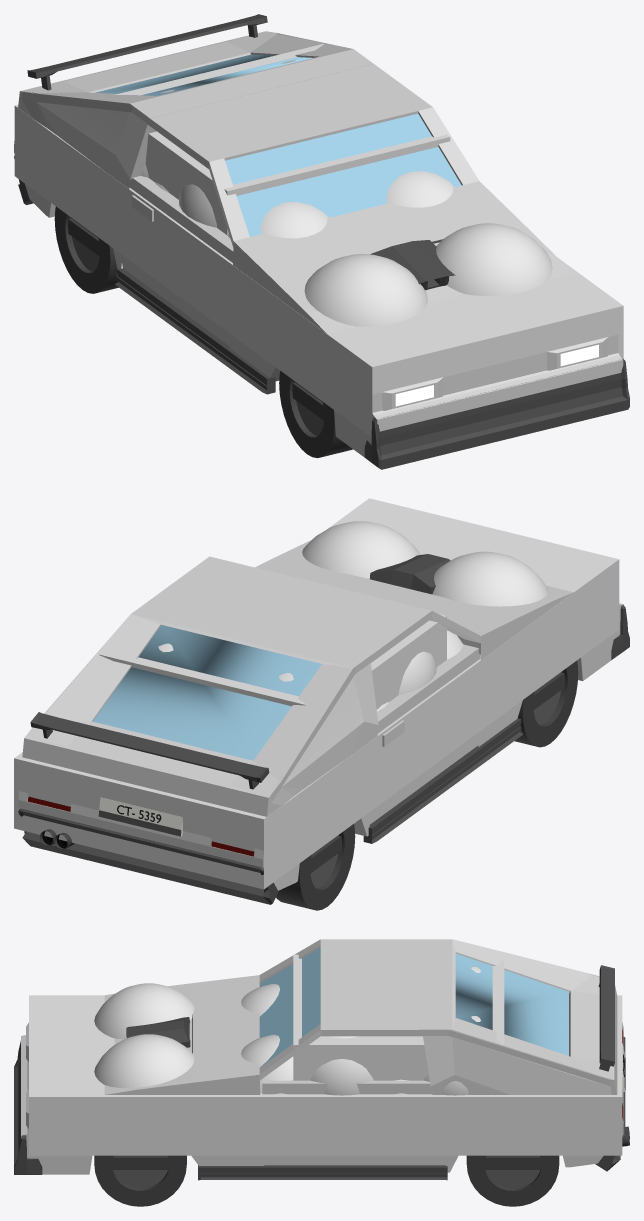
The model's file is car.glb.
3 renders of one model, top to bottom at view 1: azimuth 30°, elevation 25°; view 2: azimuth 150°, elevation 25°; view 3: azimuth 270°, elevation 25°, orthographic. The views are drawn at different scales.
Visible parts, largest first — view 1: Body, Cube.006, Windshield, FrontBumper1, Cube.002, Sphere.003, Sphere, door_2, SiderBumperRight, wheel, wheel_fr, Spoiler (+5 smaller); view 2: Body, Cube.006, BackWindshield, Cube.002, BackBumper1, Sphere.003, Sphere, door_2, Spoiler, wheel, SiderBumperRight, wheel_fr (+2 smaller); view 3: Cube.006, Body, BackWindshield, Cube.002, Sphere, Cylinder.001, wheel_fl, door_1, SideBumperLeft, Sphere.003, Windshield, Spoiler (+7 smaller).
Part boxes in pixels (bbox=[...]): Body: bbox=[14, 31, 623, 457]; Cube.006: bbox=[14, 105, 623, 436]; Windshield: bbox=[225, 113, 461, 236]; FrontBumper1: bbox=[364, 358, 629, 469]; Cube.002: bbox=[114, 44, 450, 235]; Sphere.003: bbox=[304, 254, 427, 326]; Sphere: bbox=[436, 223, 552, 295]; door_2: bbox=[122, 176, 233, 346]; SiderBumperRight: bbox=[115, 268, 275, 394]; wheel: bbox=[54, 206, 118, 293]; wheel_fr: bbox=[279, 371, 353, 458]; Spoiler: bbox=[27, 14, 267, 90]; Body: bbox=[18, 540, 623, 890]; Cube.006: bbox=[14, 498, 619, 889]; BackWindshield: bbox=[93, 624, 321, 760]; Cube.002: bbox=[99, 614, 446, 709]; BackBumper1: bbox=[18, 808, 278, 904]; Sphere.003: bbox=[432, 551, 548, 606]; Sphere: bbox=[302, 521, 420, 578]; door_2: bbox=[369, 644, 480, 824]; Spoiler: bbox=[30, 712, 269, 789]; wheel: bbox=[276, 824, 355, 910]; SiderBumperRight: bbox=[363, 718, 523, 843]; wheel_fr: bbox=[514, 660, 578, 747]; Cube.006: bbox=[29, 995, 622, 1155]; Body: bbox=[21, 939, 625, 1174]; BackWindshield: bbox=[455, 953, 568, 1055]; Cube.002: bbox=[293, 954, 504, 1080]; Sphere: bbox=[94, 1034, 194, 1087]; Cylinder.001: bbox=[466, 1155, 559, 1206]; wheel_fl: bbox=[94, 1155, 186, 1206]; door_1: bbox=[262, 1079, 445, 1165]; SideBumperLeft: bbox=[198, 1165, 447, 1180]; Sphere.003: bbox=[94, 983, 194, 1039]; Windshield: bbox=[259, 947, 320, 1067]; Spoiler: bbox=[598, 965, 614, 1071].
Bounding box in the file's own units: 1.27 × 0.9784 × 3.13.
